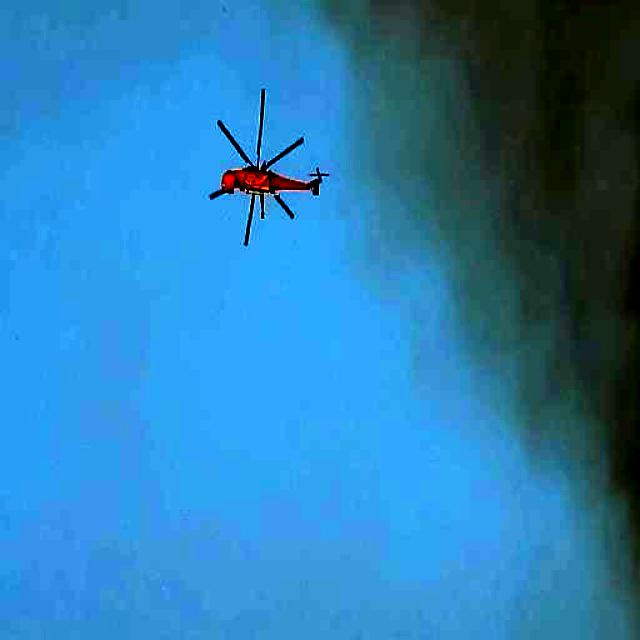drone: (210, 95, 325, 244)
